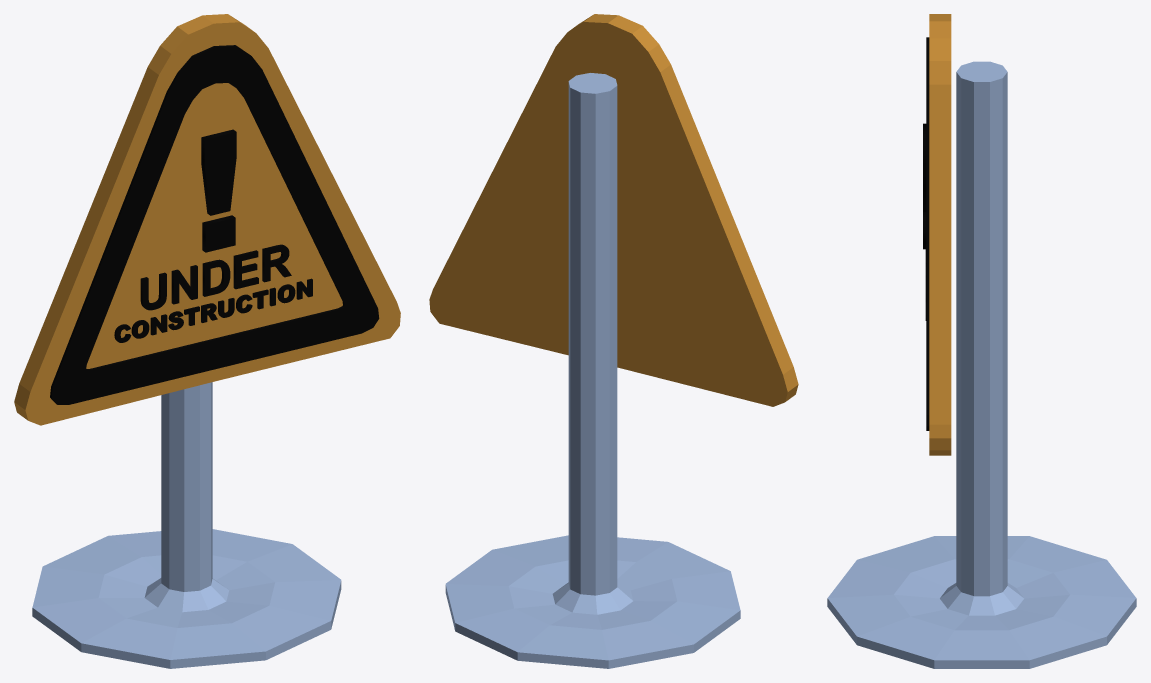
Rendered from Sign_2.fbx.
The picture shows the model from 3 angles, left to right: view 1: azimuth 30°, elevation 25°; view 2: azimuth 150°, elevation 25°; view 3: azimuth 270°, elevation 25°; orthographic projection. The views are drawn at different scales.
Visible parts, largest first — view 1: Cylinder.007, Text.002, Text, Text.001; view 2: Cylinder.007; view 3: Cylinder.007, Text.002.
Boxes of the visible parts, <box> form: Cylinder.007: <box>14,14,400,668</box>; Text.002: <box>201,129,236,252</box>; Text: <box>140,244,291,310</box>; Text.001: <box>114,278,312,342</box>; Cylinder.007: <box>429,14,798,668</box>; Cylinder.007: <box>827,14,1136,668</box>; Text.002: <box>923,123,926,249</box>.
Size of the model in its own units: 159 by 242 by 116.
